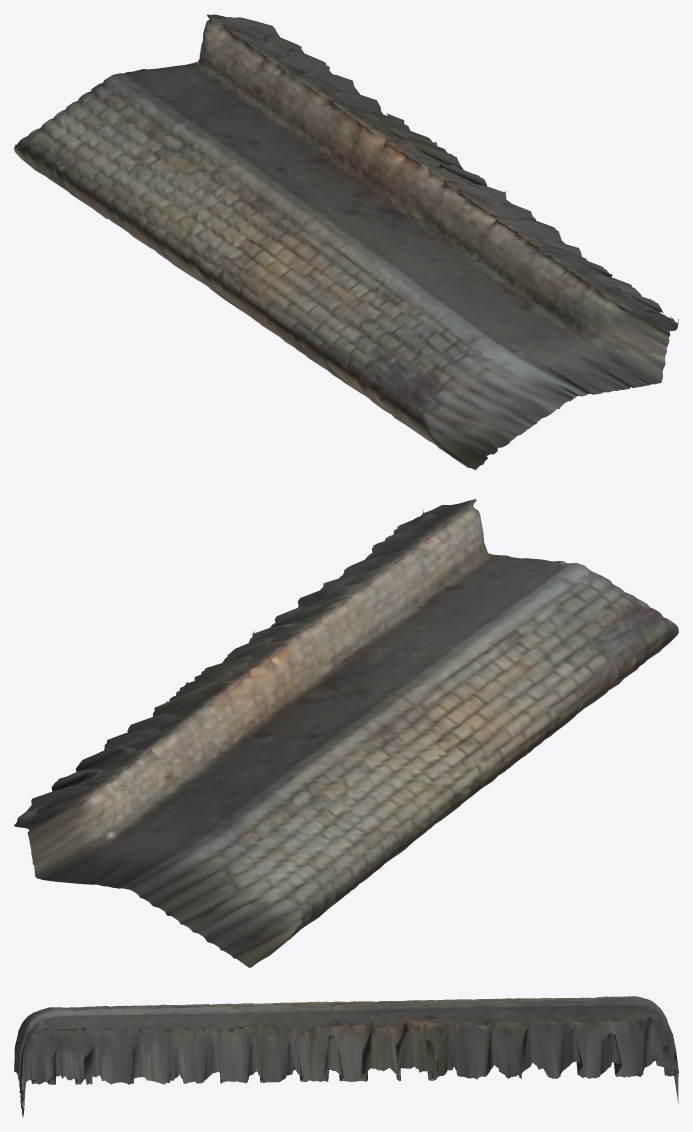
File: run4_p1_c10.glb
3 renders of one model, top to bottom at view 1: azimuth 30°, elevation 25°; view 2: azimuth 150°, elevation 25°; view 3: azimuth 270°, elevation 25°, orthographic. The views are drawn at different scales.
Visible parts, largest first — view 1: run4_p1_straight_c10; view 2: run4_p1_straight_c10; view 3: run4_p1_straight_c10.
Boxes of the visible parts, <box> form: run4_p1_straight_c10: <box>14,14,678,470</box>; run4_p1_straight_c10: <box>14,499,678,967</box>; run4_p1_straight_c10: <box>14,996,678,1117</box>.
Size of the model in its own units: 7.17 by 3.31 by 18.5.
Materials: 1 (1 with a texture image).
